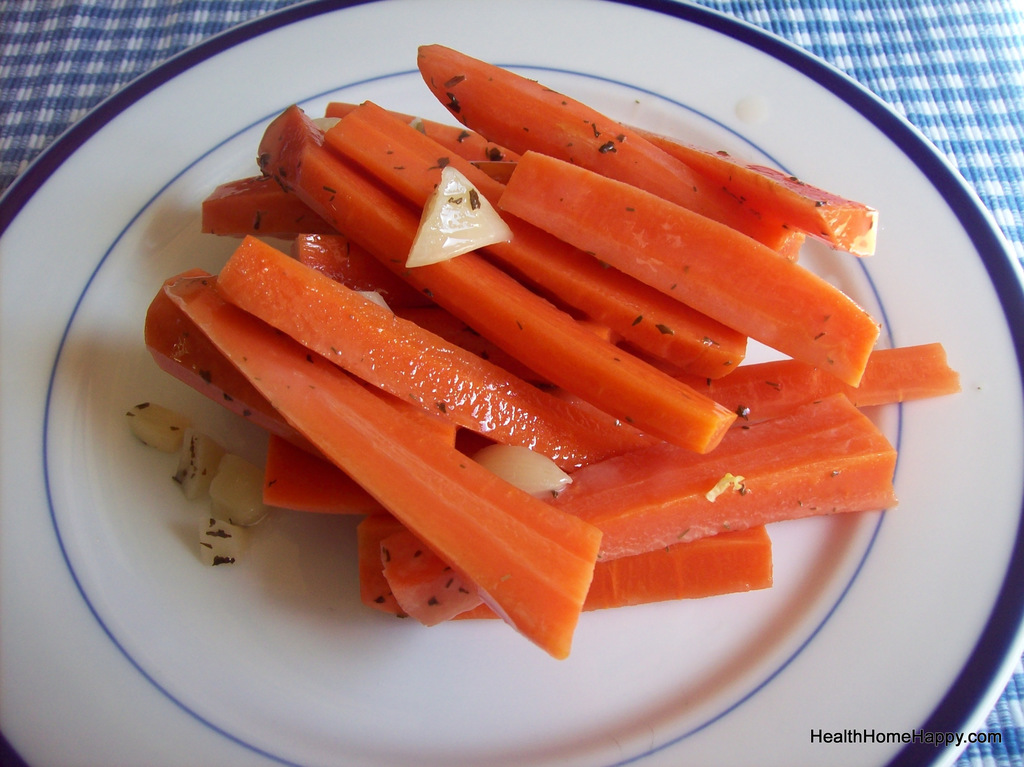Carrot: (146, 49, 965, 628), (208, 231, 636, 476)
